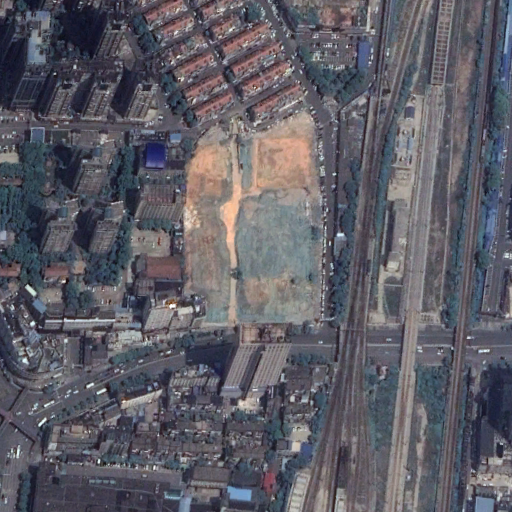cw: (185, 113, 325, 327)
